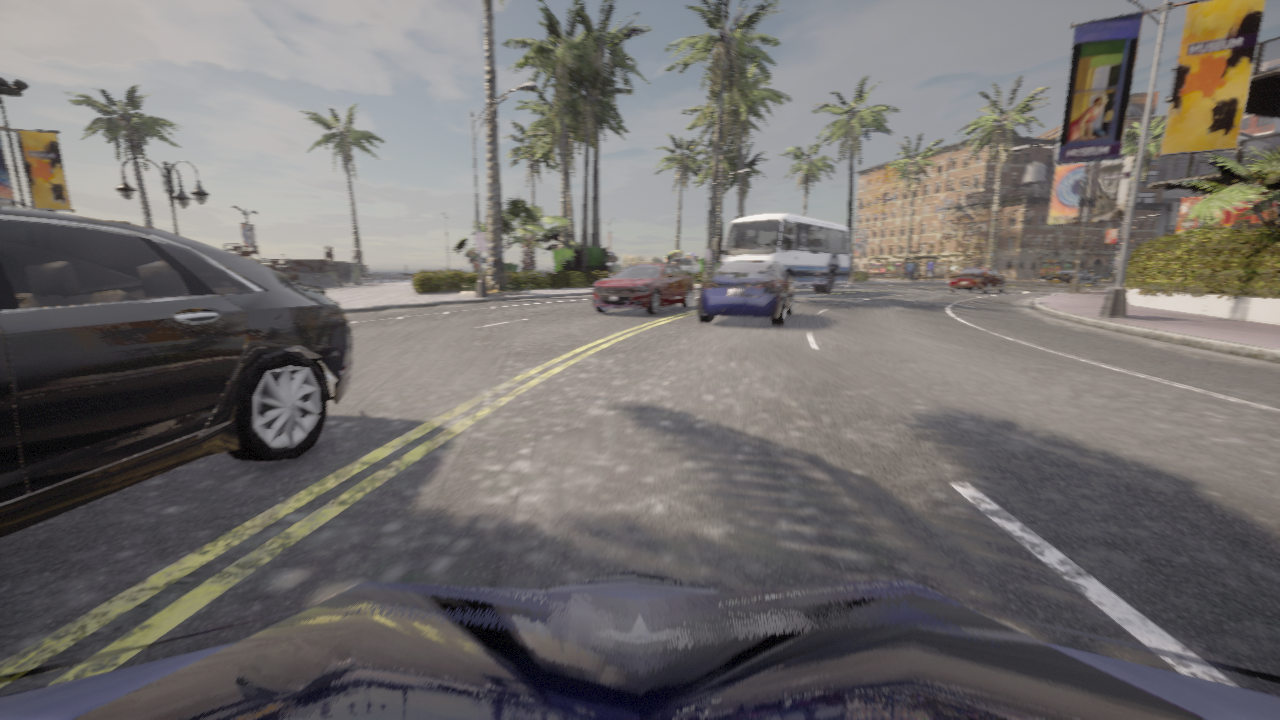cyclist: (0, 569, 1279, 719), (714, 213, 849, 292), (698, 261, 796, 324), (593, 262, 694, 314), (949, 267, 1006, 293), (1047, 268, 1100, 285)
